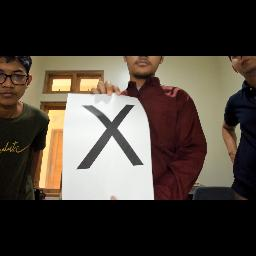x: (72, 101, 150, 175)
